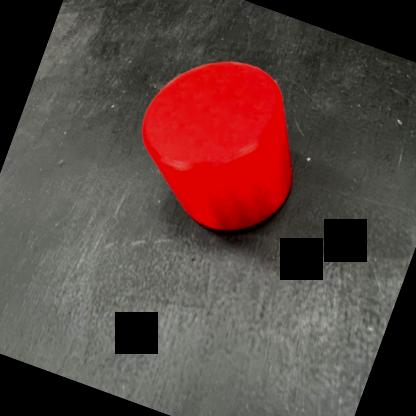red cylinder: (113, 32, 328, 252)
